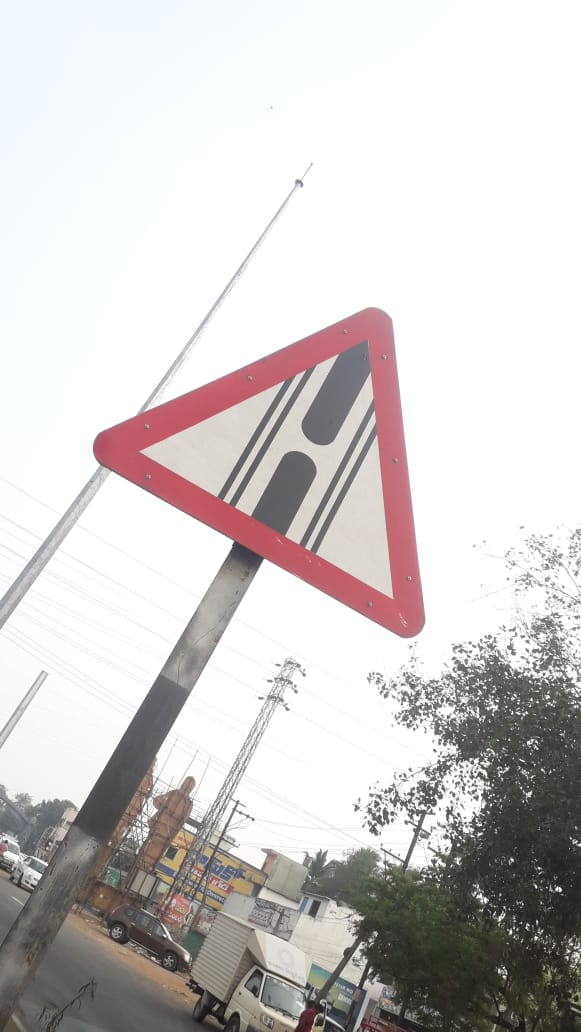highway go straight: (105, 239, 477, 640)
